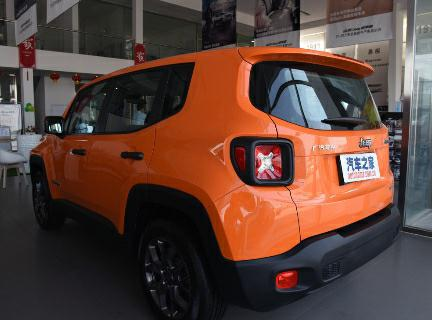Jeep-自由侠: (25, 39, 406, 320)
